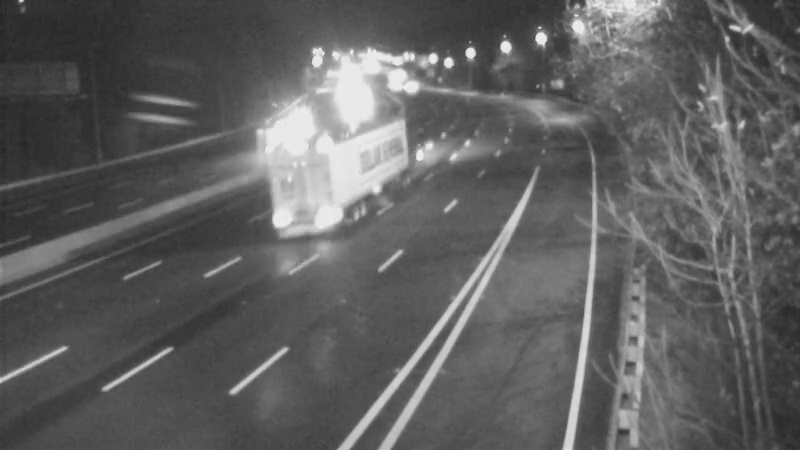vehicle: (264, 139, 344, 219), (263, 110, 313, 160)
